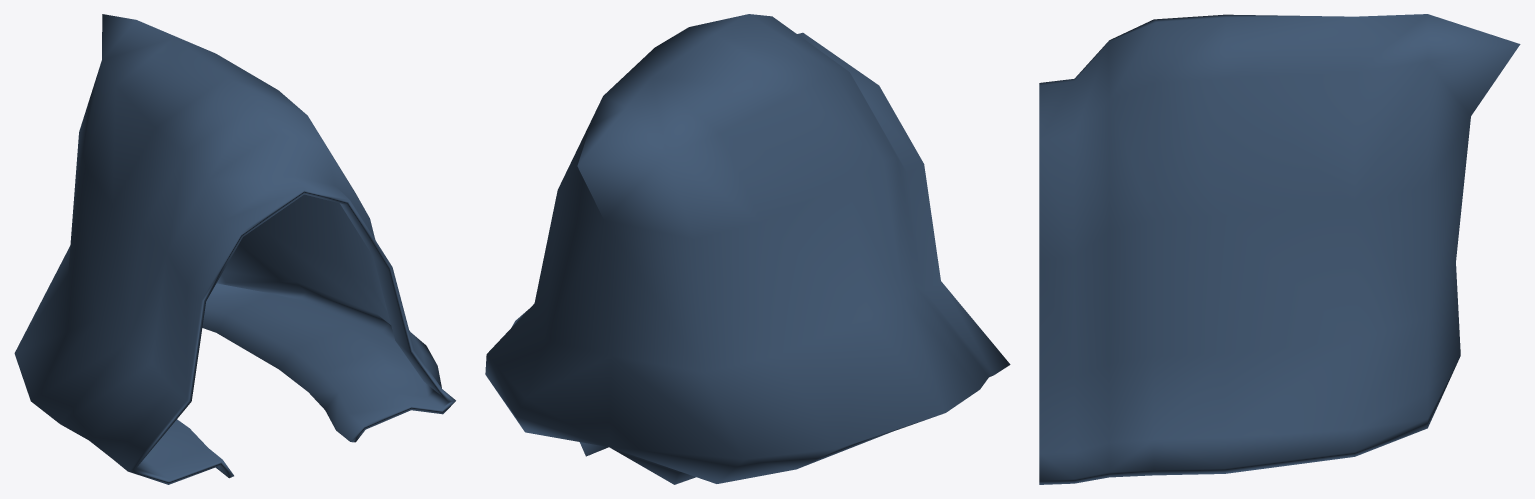
Rendered from hood.fbx.
The picture shows the model from 3 angles, left to right: view 1: azimuth 30°, elevation 25°; view 2: azimuth 150°, elevation 25°; view 3: azimuth 270°, elevation 25°; orthographic projection. The views are drawn at different scales.
Visible parts, largest first — view 1: hood; view 2: hood; view 3: hood.
Boxes of the visible parts, x1=… form: hood: x1=14, y1=14, x2=455, y2=484; hood: x1=485, y1=14, x2=1010, y2=484; hood: x1=1039, y1=14, x2=1520, y2=484.
Size of the model in its own units: 307 by 263 by 286.
